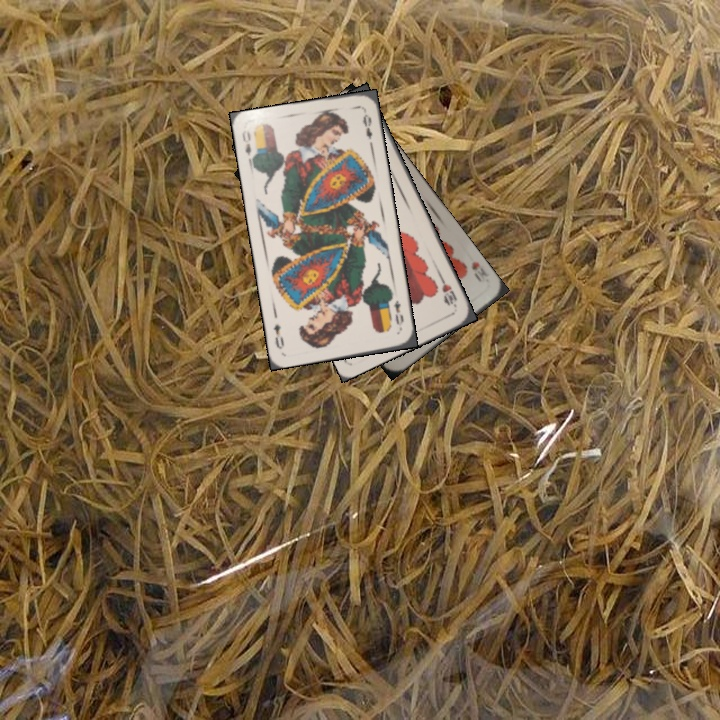EO: (238, 126, 259, 166), (389, 296, 406, 333)
H10: (436, 273, 460, 310), (467, 257, 490, 285)
